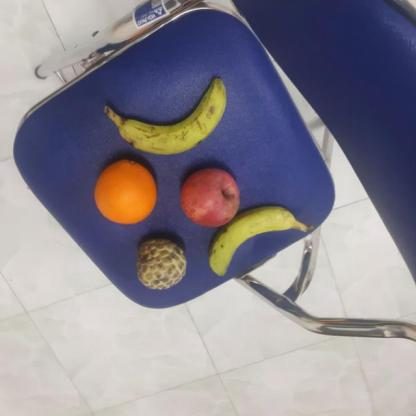annona: (132, 235, 187, 294)
apple: (182, 168, 242, 230)
banana: (118, 78, 227, 158), (200, 205, 299, 279)
orange: (93, 158, 157, 226)
